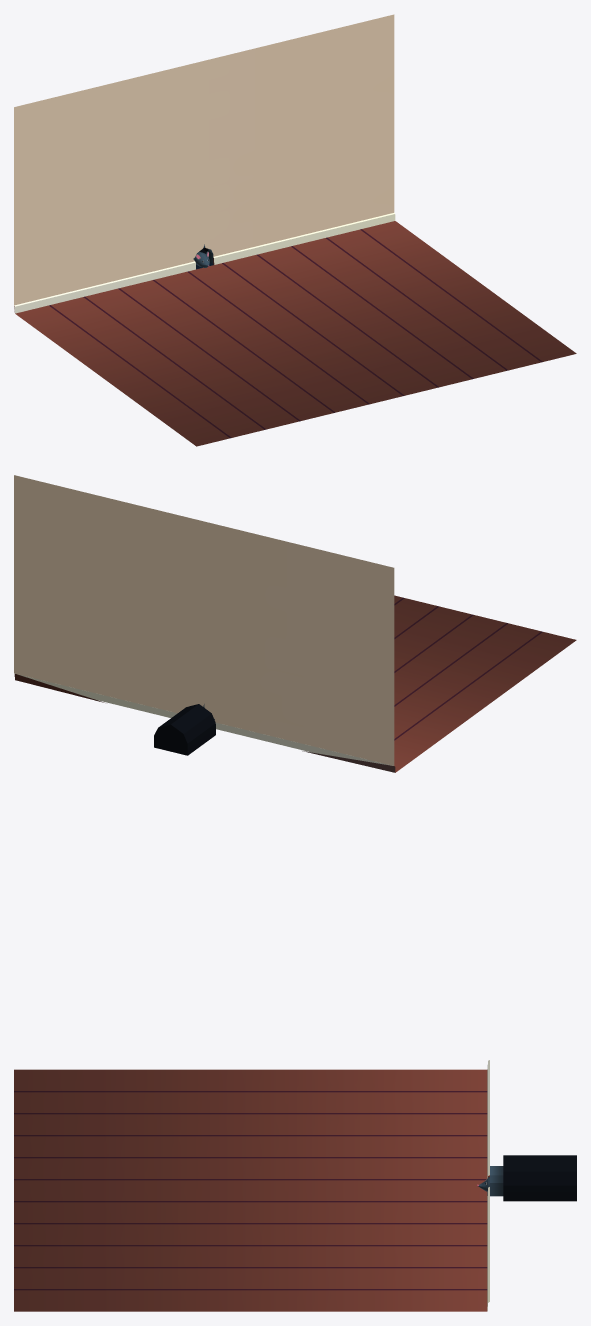
File: Wall_Mouse.fbx
3 renders of one model, top to bottom at view 1: azimuth 30°, elevation 25°; view 2: azimuth 150°, elevation 25°; view 3: azimuth 270°, elevation 25°, orthographic. The views are drawn at different scales.
Parts seen in each view (by area): view 1: Wall_Mouse, WoodenFloor; view 2: Wall_Mouse, WoodenFloor; view 3: WoodenFloor, Wall_Mouse.
Part boxes in pixels (x1,y1,x2,y2): Wall_Mouse: (14,14,395,313); WoodenFloor: (15,221,576,446); Wall_Mouse: (14,475,395,772); WoodenFloor: (394,595,576,772); WoodenFloor: (14,1069,487,1311); Wall_Mouse: (487,1060,576,1310).
Bounding box in the file's own units: 1753 × 910 × 1723.
